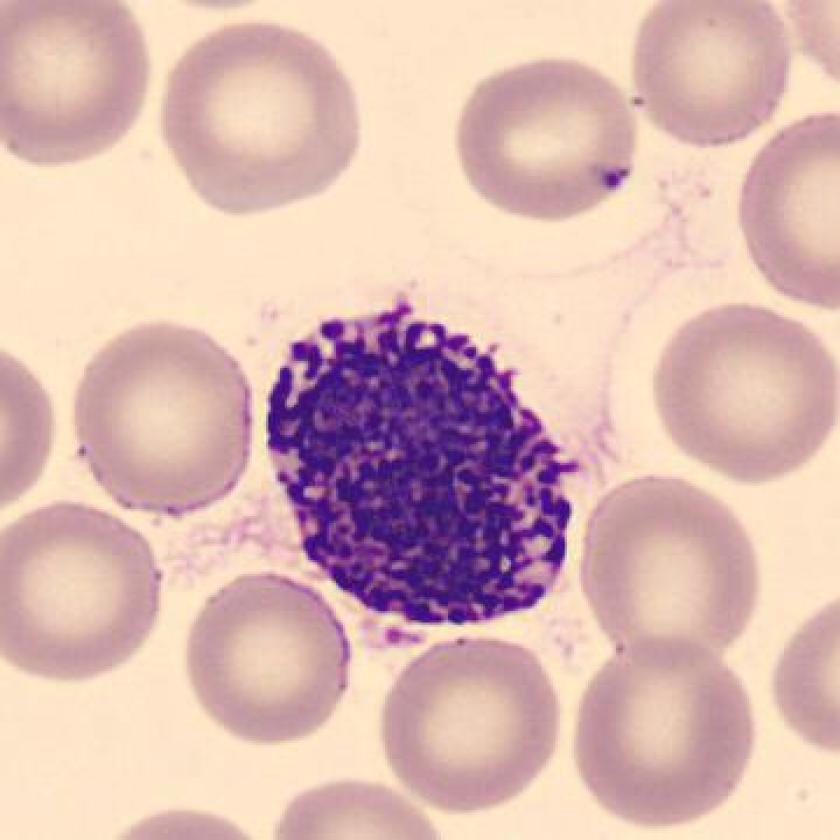basophil: (251, 295, 577, 647)
